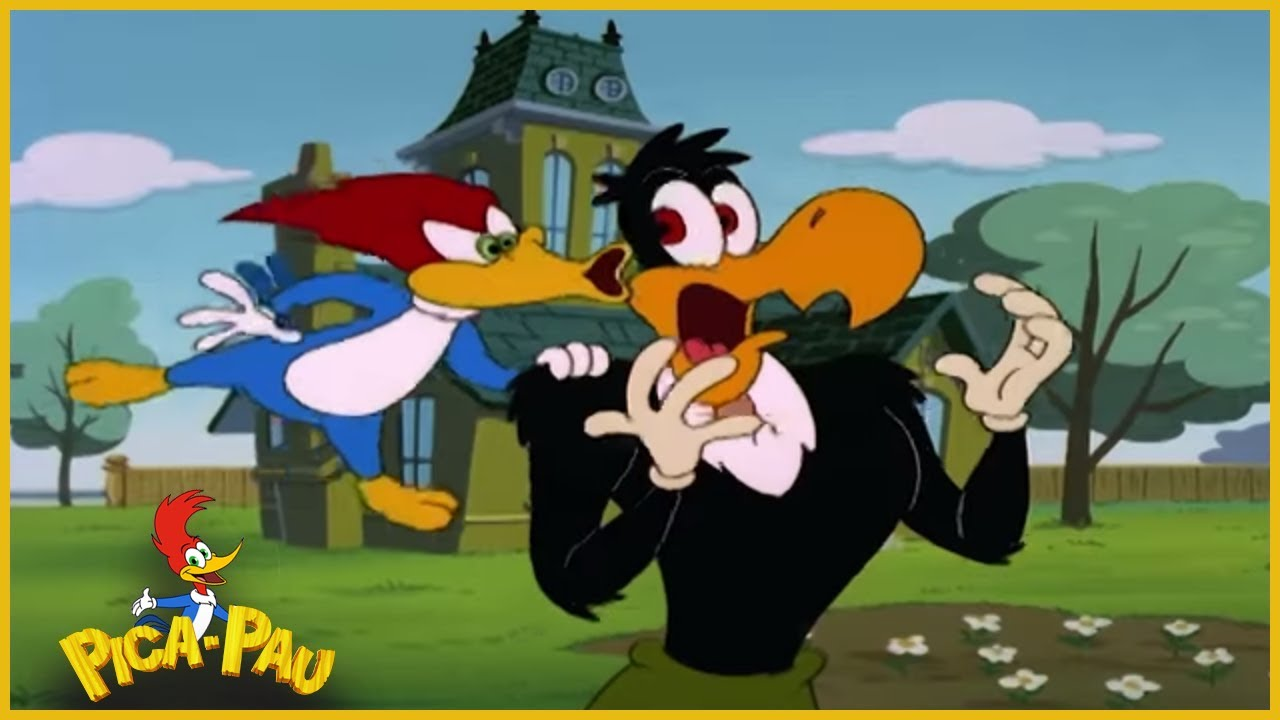picapau: (62, 151, 625, 542)
urubu: (530, 108, 1077, 720)
